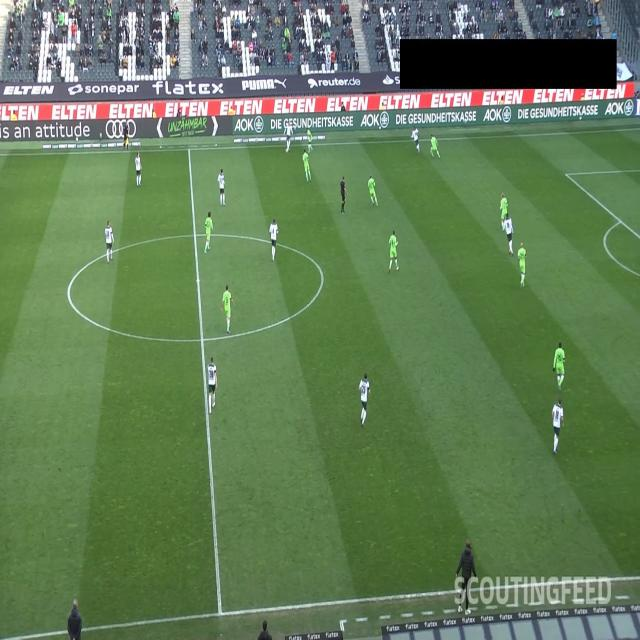ball: (285, 148, 289, 154)
